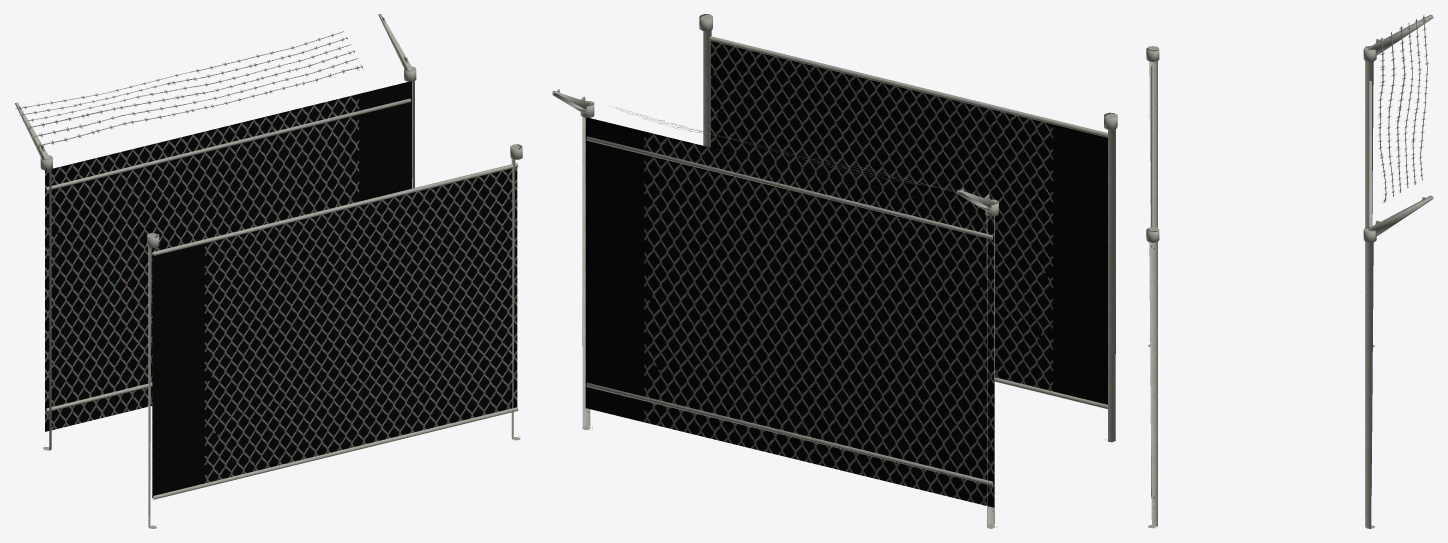
File: Fence.obj
3 renders of one model, left to right at view 1: azimuth 30°, elevation 25°; view 2: azimuth 150°, elevation 25°; view 3: azimuth 270°, elevation 25°, orthographic. The views are drawn at different scales.
Visible parts, largest first — view 1: fence__Cylinder, fence_with_barbwire_Cylinder.001; view 2: fence_with_barbwire_Cylinder.001, fence__Cylinder; view 3: fence_with_barbwire_Cylinder.001, fence__Cylinder.
Boxes of the visible parts, x1=… form: fence__Cylinder: x1=147, y1=144, x2=522, y2=528; fence_with_barbwire_Cylinder.001: x1=15, y1=14, x2=416, y2=450; fence_with_barbwire_Cylinder.001: x1=552, y1=89, x2=998, y2=528; fence__Cylinder: x1=699, y1=14, x2=1117, y2=442; fence_with_barbwire_Cylinder.001: x1=1363, y1=14, x2=1433, y2=528; fence__Cylinder: x1=1146, y1=46, x2=1159, y2=528.
Bounding box in the file's own units: 7.94 × 6.56 × 5.17.
5 materials, 5 textured.
